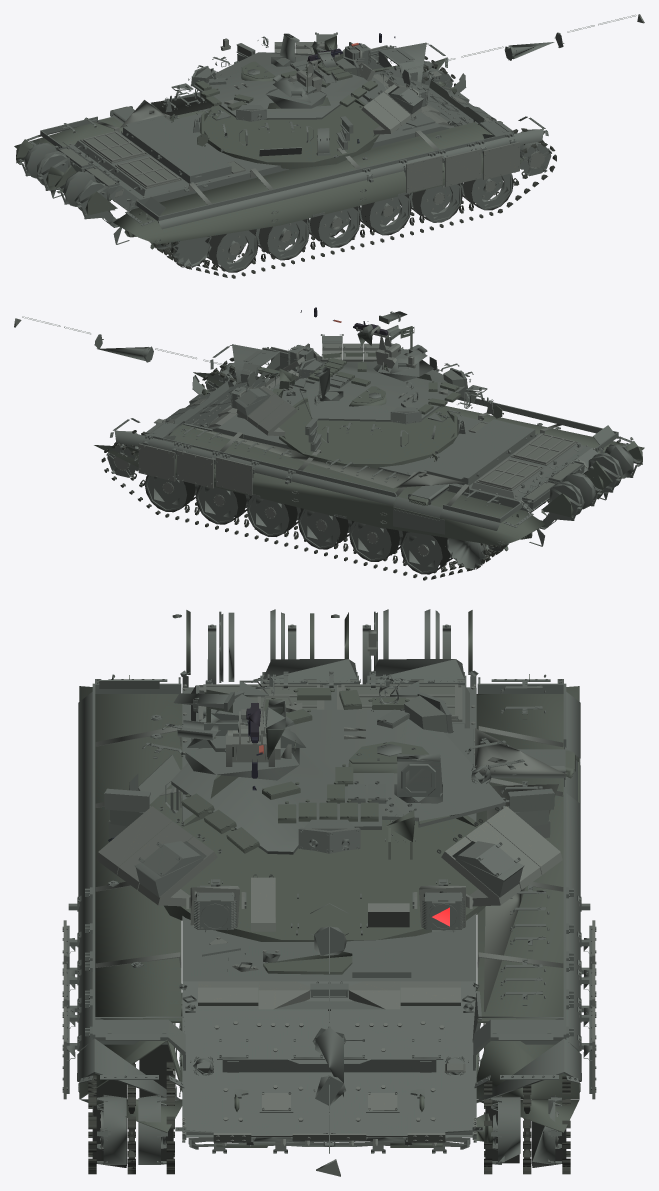
3 renders of one model, top to bottom at view 1: azimuth 30°, elevation 25°; view 2: azimuth 150°, elevation 25°; view 3: azimuth 270°, elevation 25°, orthographic. The views are drawn at different scales.
Parts seen in each view (by area): view 1: pCube600_lambert3_0; view 2: pCube600_lambert3_0; view 3: pCube600_lambert3_0.
Boxes of the visible parts, x1,y1,x2,y2 form: pCube600_lambert3_0: [14, 14, 644, 278]; pCube600_lambert3_0: [14, 307, 644, 580]; pCube600_lambert3_0: [62, 609, 596, 1176].
Size of the model in its own units: 37.87 by 10.51 by 14.74.
2 materials, 2 textured.
